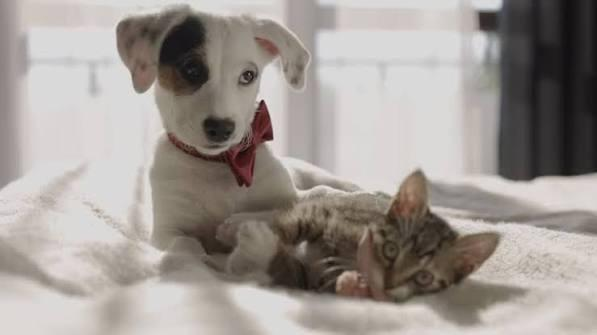non-dog: (215, 168, 505, 305)
puppy-dog: (114, 6, 361, 287)
